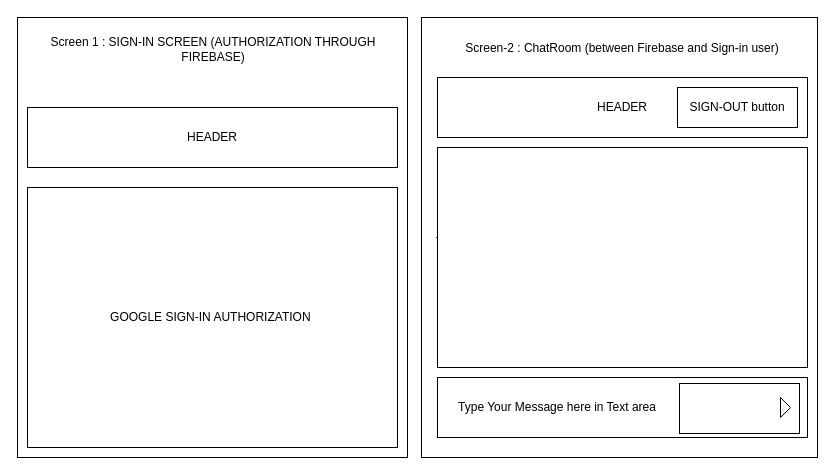
Some shapes in this 835 by 475 pixel diagram are drawn without their labels. Here are the shapes that lost their labels. From the top down, the centre of each, then its label:
At (x=622, y=257): "ChatRoom (containing message history)".
At (x=739, y=408): "SEND Button".
